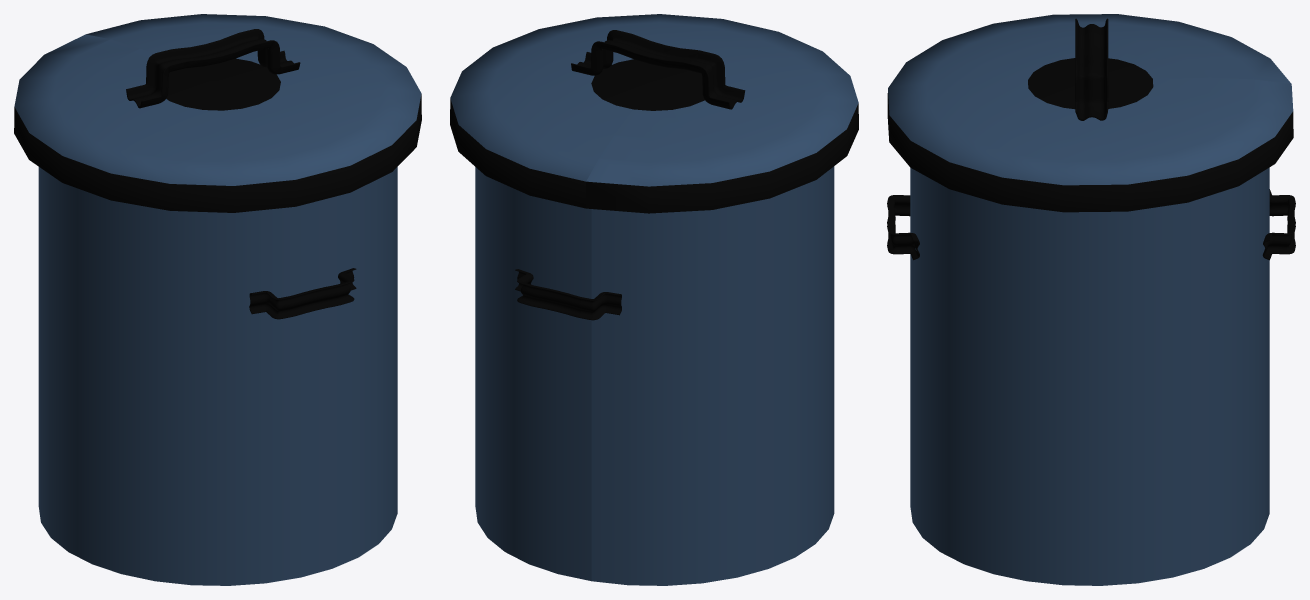
The model's file is Lixeira.obj.
3 views of the same model, side by side, from view 1: azimuth 30°, elevation 25°; view 2: azimuth 150°, elevation 25°; view 3: azimuth 270°, elevation 25° (orthographic).
Parts seen in each view (by area): view 1: binlid; view 2: binlid; view 3: binlid.
Boxes of the visible parts, x1,y1,x2,y2 form: binlid: (14,14,421,585); binlid: (450,14,858,585); binlid: (887,14,1295,585).
Bounding box in the file's own units: 1.46 × 1.85 × 1.47.
